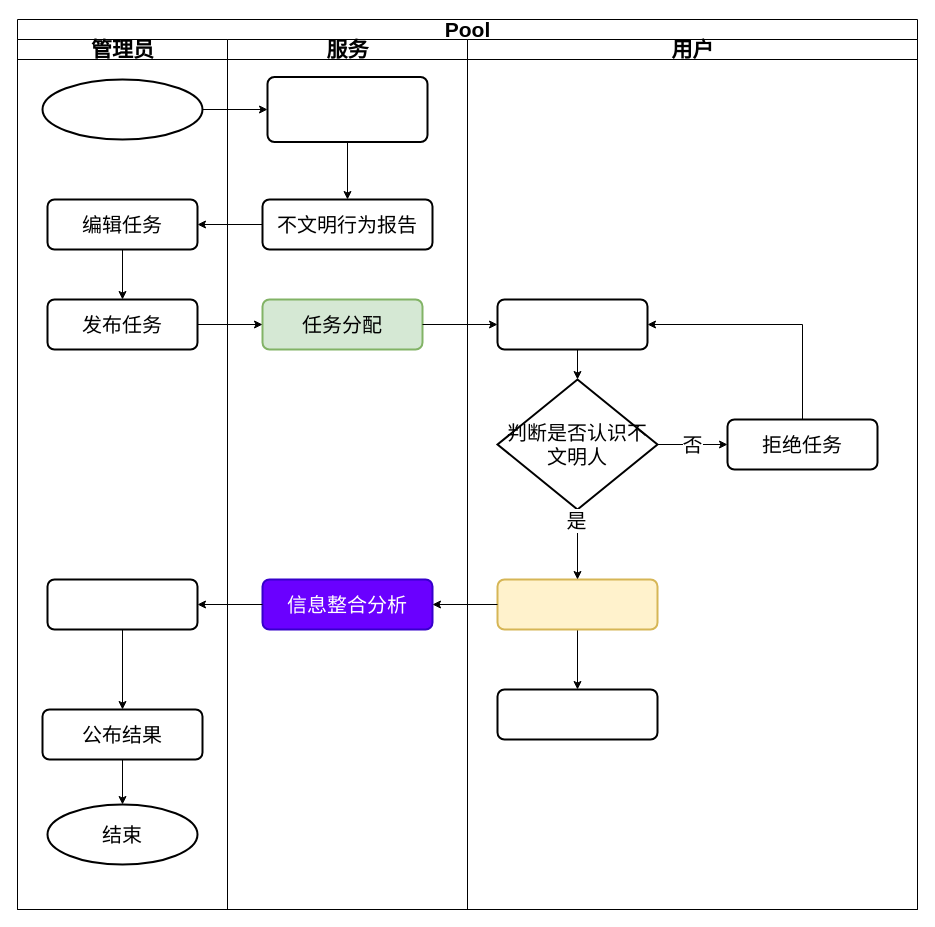
Image size: 935x927. Some labels were removed from this diagram. The centre of each missing label's shape, as x and y in pixels:
"不文明行为数据产生" goes at (x=347, y=109).
"完成任务" goes at (x=577, y=714).
"开始" goes at (x=122, y=109).
"提交相关信息" goes at (x=577, y=604).
"查看任务" goes at (x=572, y=324).
"确定结果" goes at (x=122, y=604).
